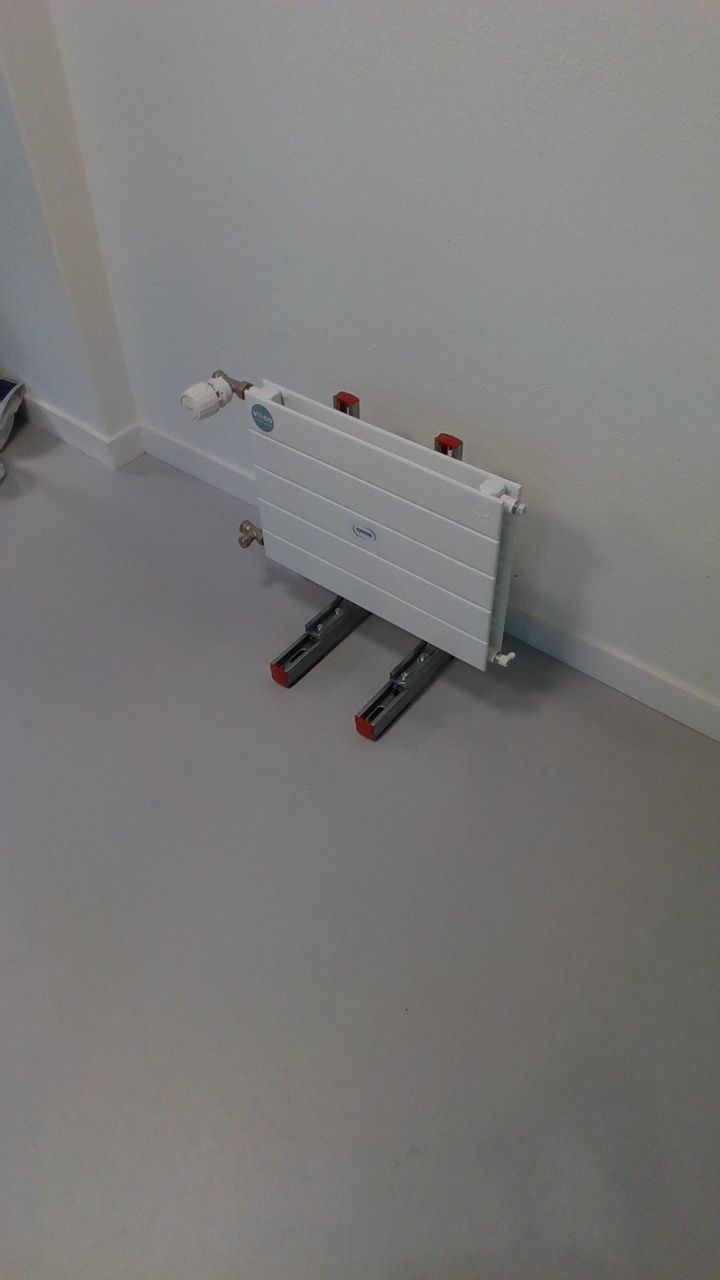Knob_Radiator: (173, 363, 244, 429)
Radiator: (234, 375, 524, 678)
